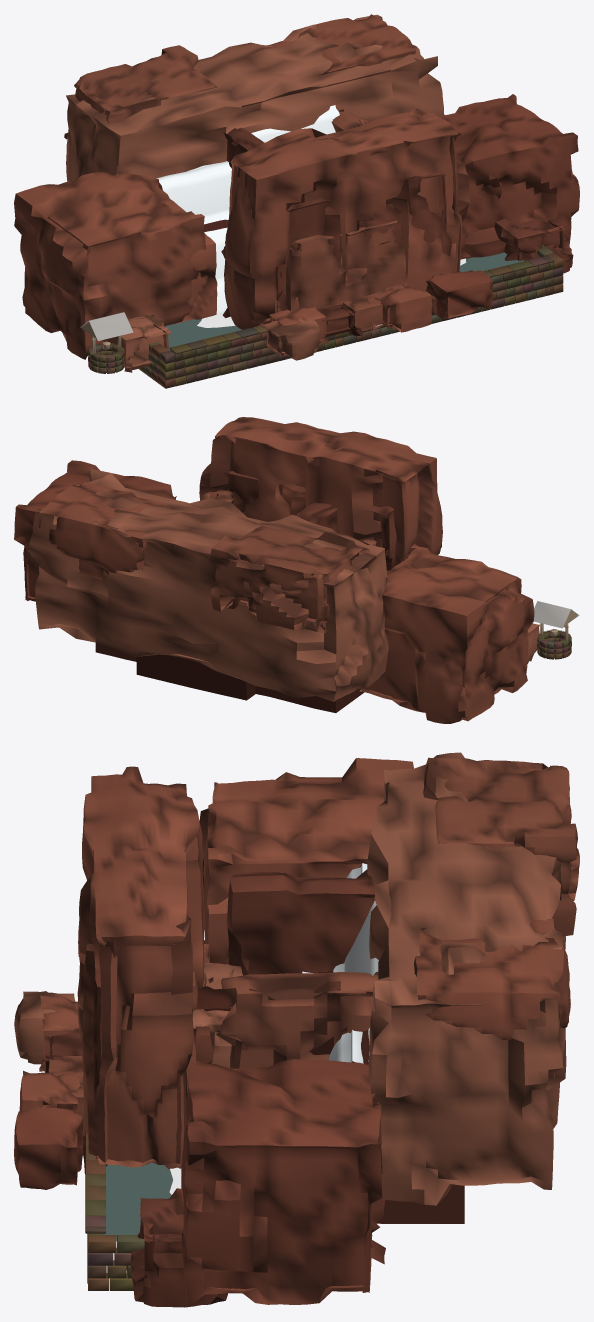
The model's file is quarry.glb.
3 renders of one model, top to bottom at view 1: azimuth 30°, elevation 25°; view 2: azimuth 150°, elevation 25°; view 3: azimuth 270°, elevation 25°, orthographic. The views are drawn at different scales.
Visible parts, largest first — view 1: falls-rock, quarry-wall-b, falls-wall, quarry-wall-c, quarry-wall-a, falls-water, falls-well, falls-pool; view 2: falls-rock, quarry-wall-b, falls-wetrock, quarry-wall-a, falls-well; view 3: falls-rock, quarry-wall-b, quarry-wall-a, falls-wall, falls-pool, small-falls-rock, falls-wetrock, falls-water, quarry-wall-c.
Boxes of the visible parts, x1,y1,x2,y2 form: falls-rock: (14,14,579,372); quarry-wall-b: (221,108,493,360); falls-wall: (138,245,563,388); quarry-wall-c: (285,220,436,331); quarry-wall-a: (269,169,451,356); falls-water: (156,105,339,314); falls-well: (80,312,133,373); falls-pool: (165,252,524,350); falls-rock: (14,460,539,723); quarry-wall-b: (199,417,442,565); falls-wetrock: (95,643,364,712); quarry-wall-a: (223,471,396,570); falls-well: (533,601,579,659); falls-rock: (126,752,579,1307); quarry-wall-b: (14,766,204,1189); quarry-wall-a: (39,943,187,1137); falls-wall: (85,1131,144,1290); falls-pool: (104,1162,172,1241); small-falls-rock: (82,944,242,1173); falls-wetrock: (309,862,464,1223); falls-water: (302,863,378,1063); quarry-wall-c: (48,962,198,1144).
Bounding box in the file's own units: 27.31 × 9.99 × 16.99.
